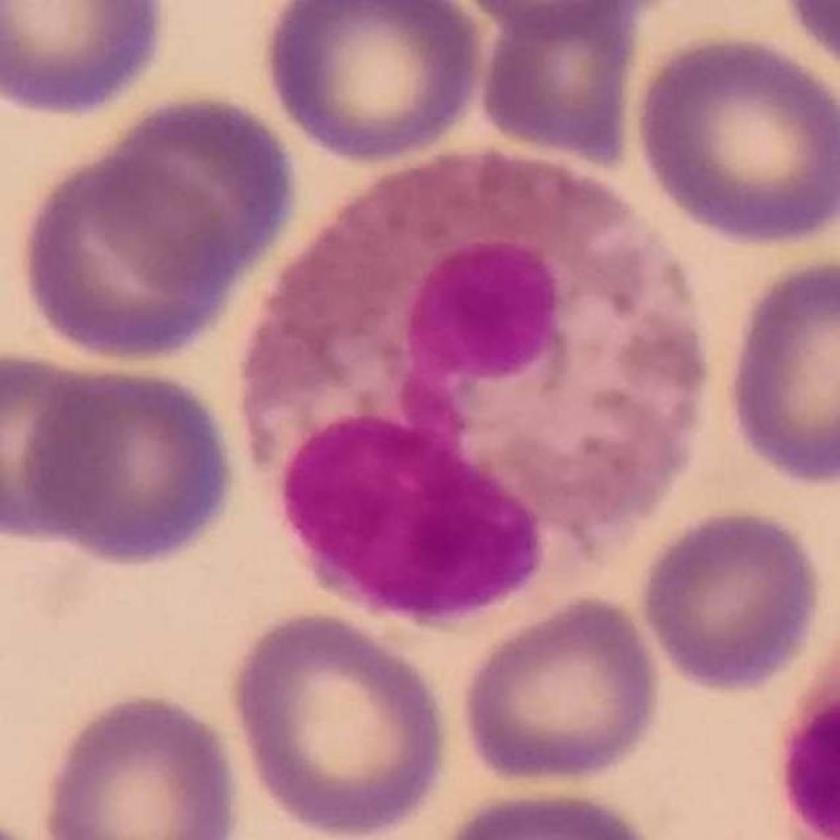eosinophil: (239, 140, 710, 639)
